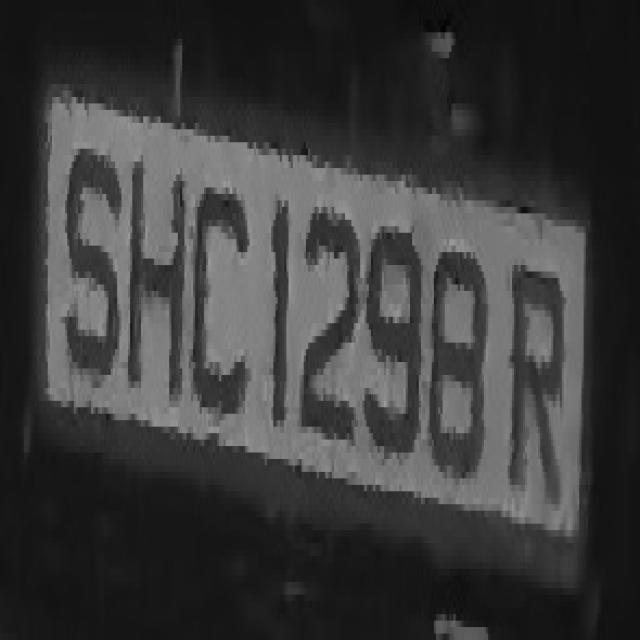1: (267, 168, 297, 446)
2: (302, 174, 362, 472)
8: (427, 213, 495, 504)
9: (354, 194, 423, 472)
C: (186, 155, 252, 440)
H: (121, 136, 189, 440)
R: (506, 233, 564, 517)
S: (58, 116, 122, 394)
